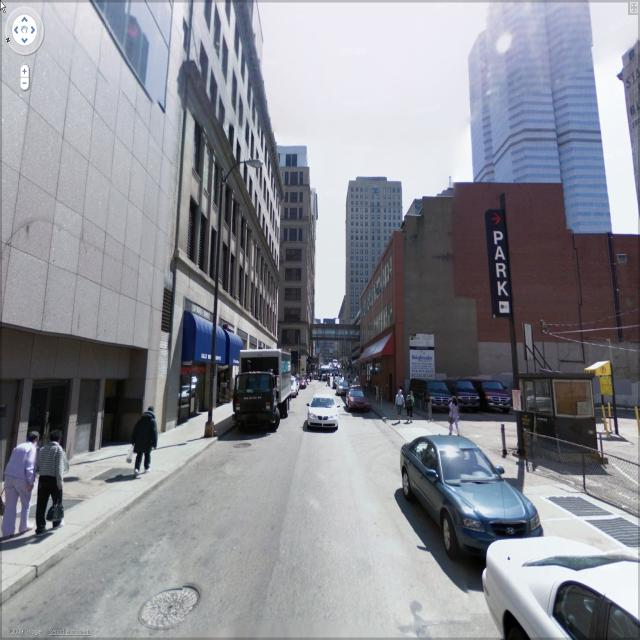b_1: (353, 176, 640, 420), (1, 7, 166, 429), (178, 1, 286, 393), (461, 9, 627, 246), (278, 154, 318, 377), (343, 170, 402, 281)
